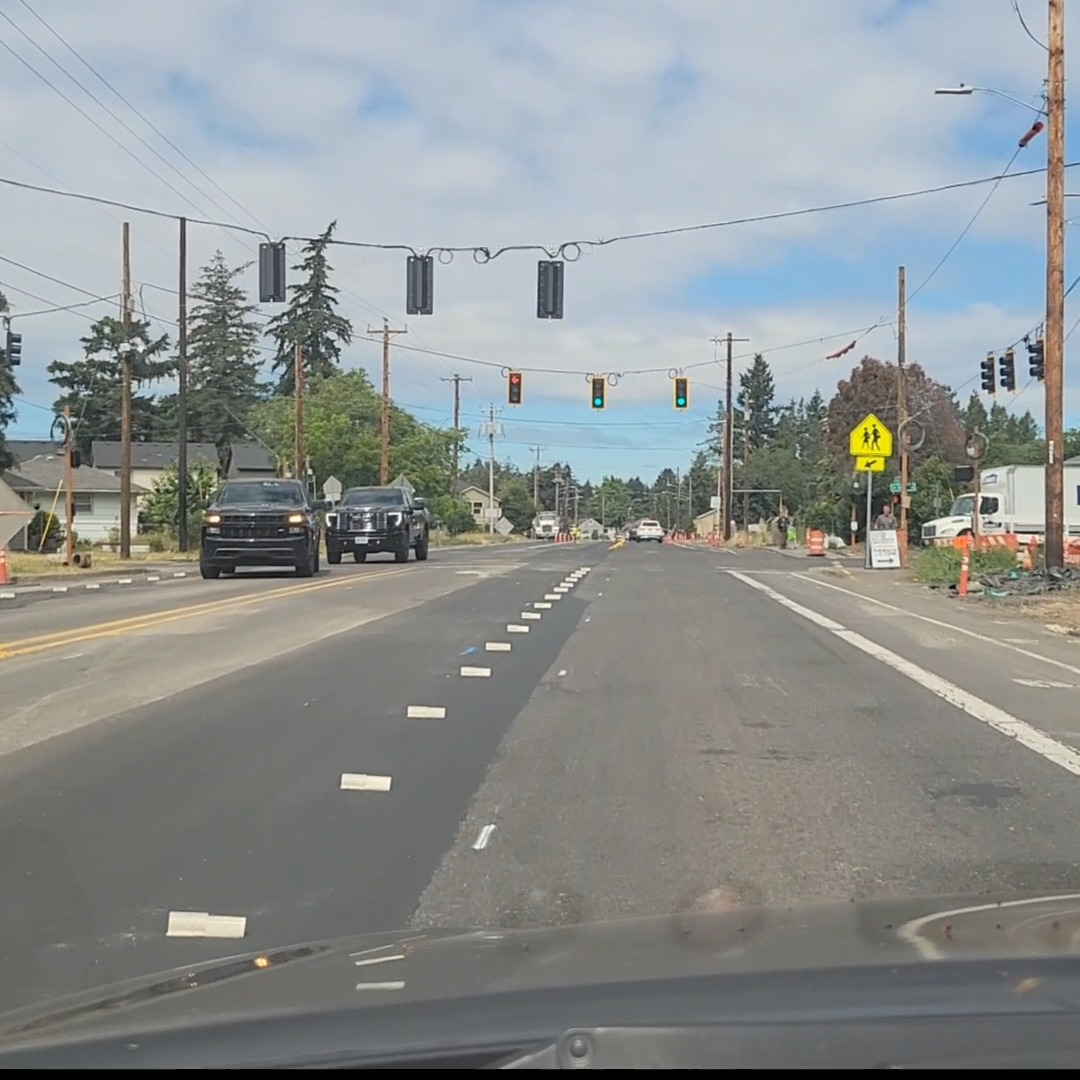car: (198, 478, 326, 579), (323, 485, 430, 563), (626, 518, 665, 542)
crosswalk-sign: (849, 412, 892, 457)
delineator: (953, 539, 974, 598), (63, 523, 79, 553), (0, 547, 11, 584)
